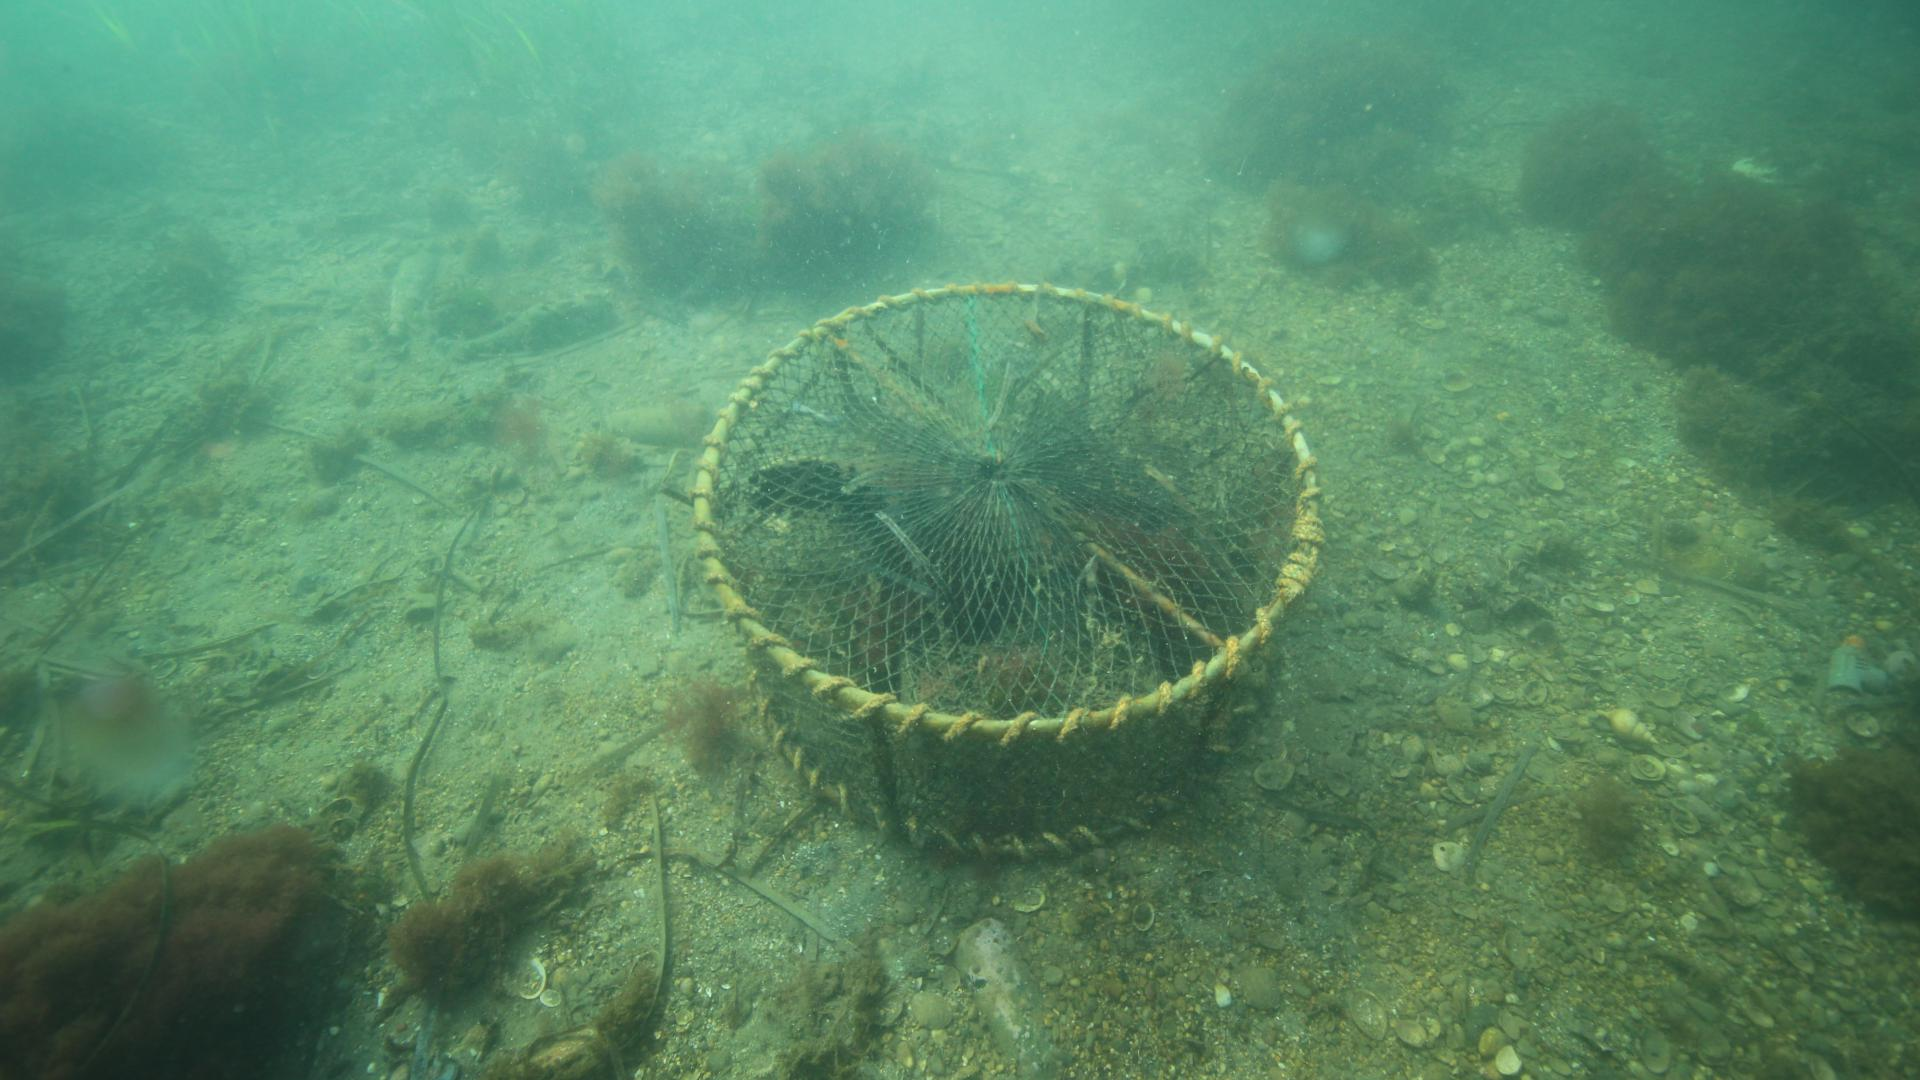circular fish trap: (688, 278, 1327, 860)
